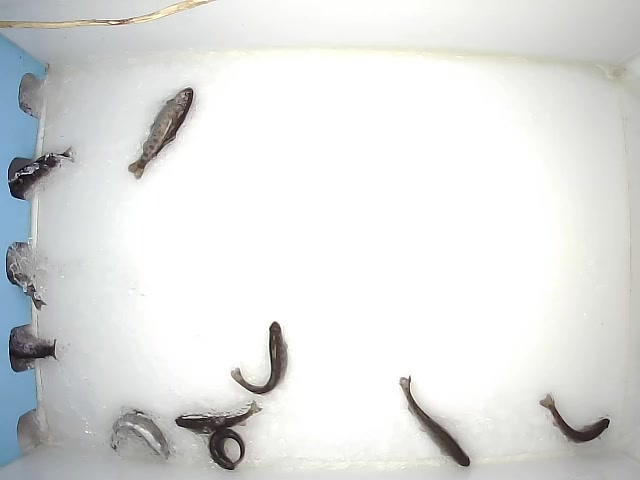fish: (395, 373, 472, 469), (126, 86, 194, 180), (228, 320, 289, 396), (537, 392, 611, 445), (175, 399, 264, 438), (109, 410, 172, 458), (207, 426, 245, 472)
